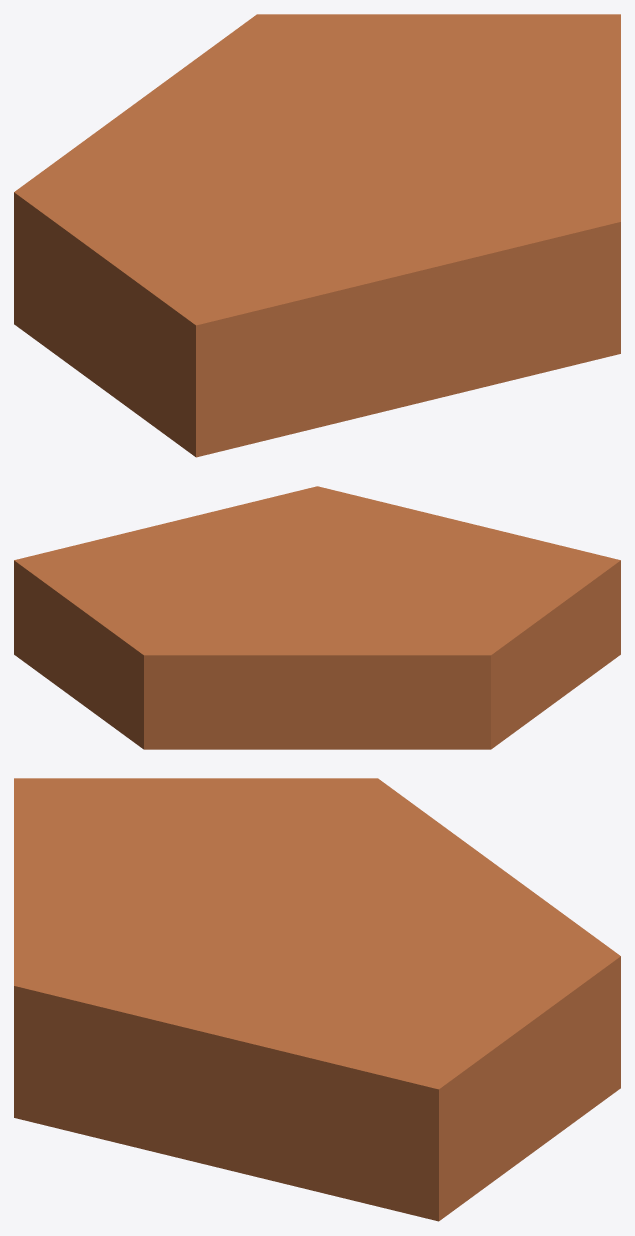
File: _1wall1.glb
3 views of the same model, one above another, from view 1: azimuth 30°, elevation 25°; view 2: azimuth 150°, elevation 25°; view 3: azimuth 270°, elevation 25° (orthographic). The views are drawn at different scales.
Visible parts, largest first — view 1: Cliff4-col; view 2: Cliff4-col; view 3: Cliff4-col.
Part boxes in pixels (left/top/right/bottom): Cliff4-col: left=14, top=14, right=620, bottom=457; Cliff4-col: left=14, top=486, right=620, bottom=749; Cliff4-col: left=14, top=778, right=620, bottom=1221.
Bounding box in the file's own units: 1.52 × 0.3 × 1.25.
Materials: 1 (1 with a texture image).
